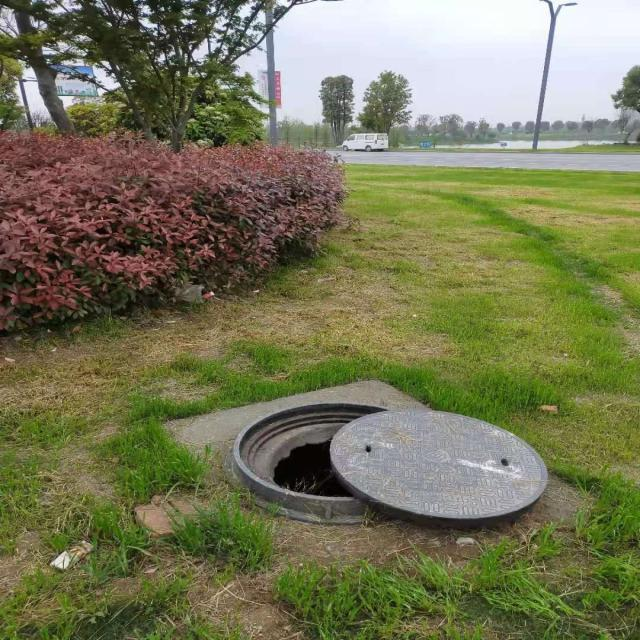Faulty: (224, 401, 547, 524)
